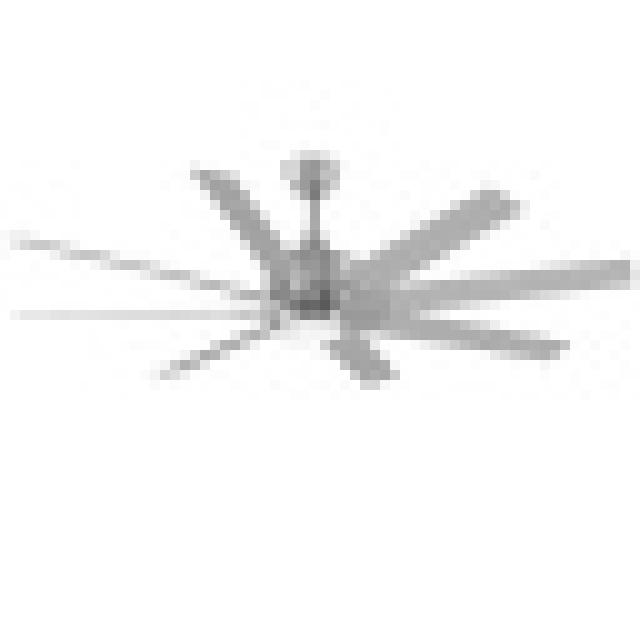Bulb: (28, 148, 635, 418)
